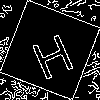H: (25, 25, 77, 81)
